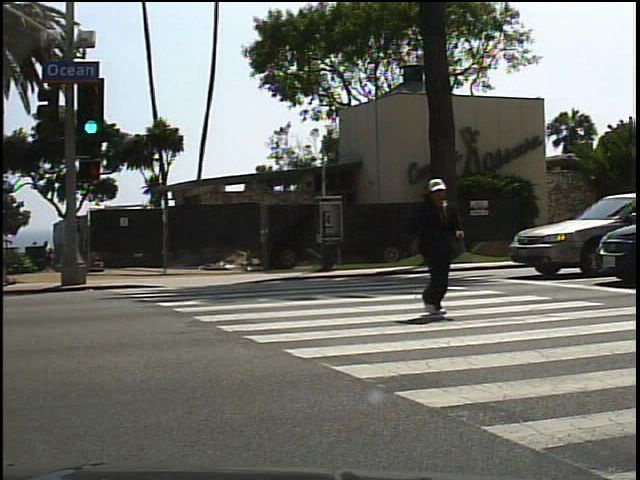person: (394, 162, 472, 335)
